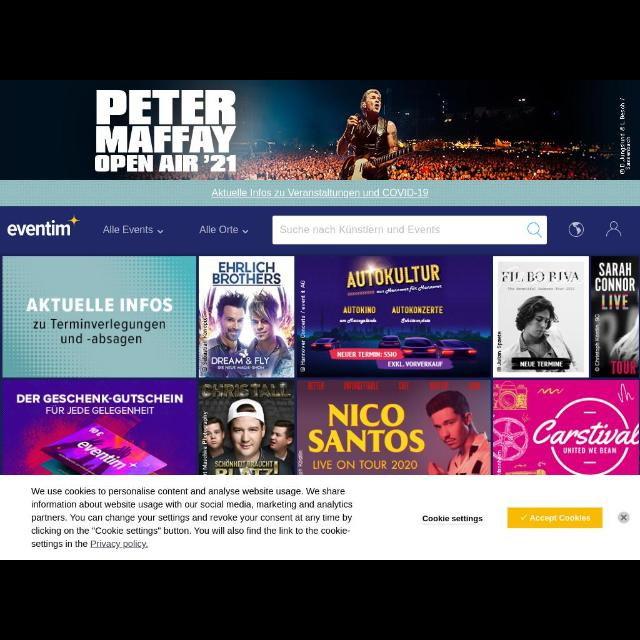icon: (527, 222, 543, 238), (568, 221, 584, 237), (606, 222, 622, 238), (618, 512, 630, 524), (157, 229, 165, 235), (242, 229, 250, 235), (520, 514, 528, 520)
image: (1, 254, 640, 474), (1, 80, 640, 180), (8, 214, 80, 236)
input: (273, 216, 547, 244)
spinner: (102, 224, 164, 236), (198, 224, 250, 236)
text: (30, 486, 354, 550), (211, 187, 429, 199), (279, 224, 441, 236), (421, 514, 485, 526), (102, 224, 154, 236), (529, 514, 591, 524), (199, 224, 239, 236)
textbutton: (508, 508, 602, 528)
toolbar: (1, 207, 640, 255)
